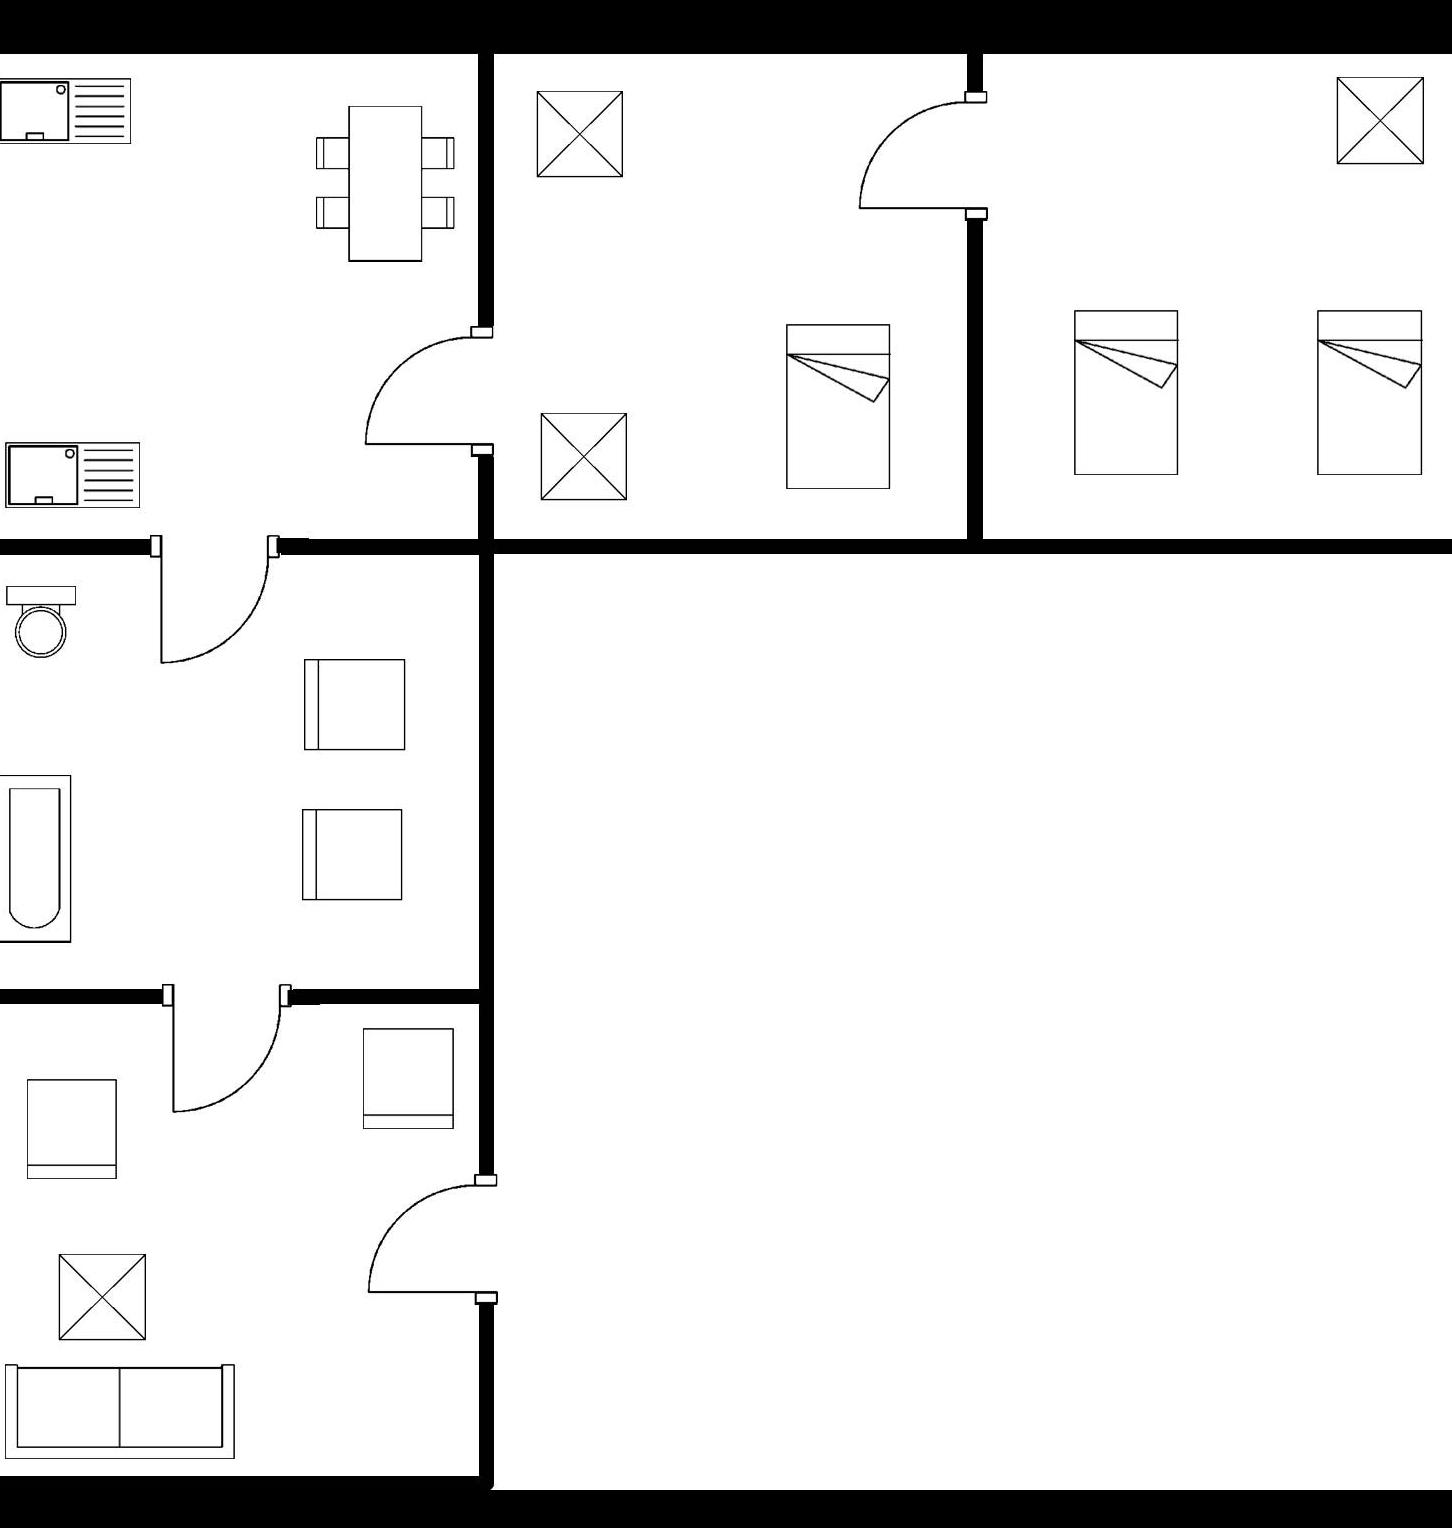bed: (1063, 296, 1193, 488), (772, 310, 902, 499), (1306, 296, 1432, 488)
dining_table: (303, 95, 461, 274)
sink: (0, 430, 154, 518), (0, 65, 145, 157)
sofa: (0, 1356, 244, 1471)
toilet: (0, 574, 90, 668)
tub: (0, 765, 85, 954)
